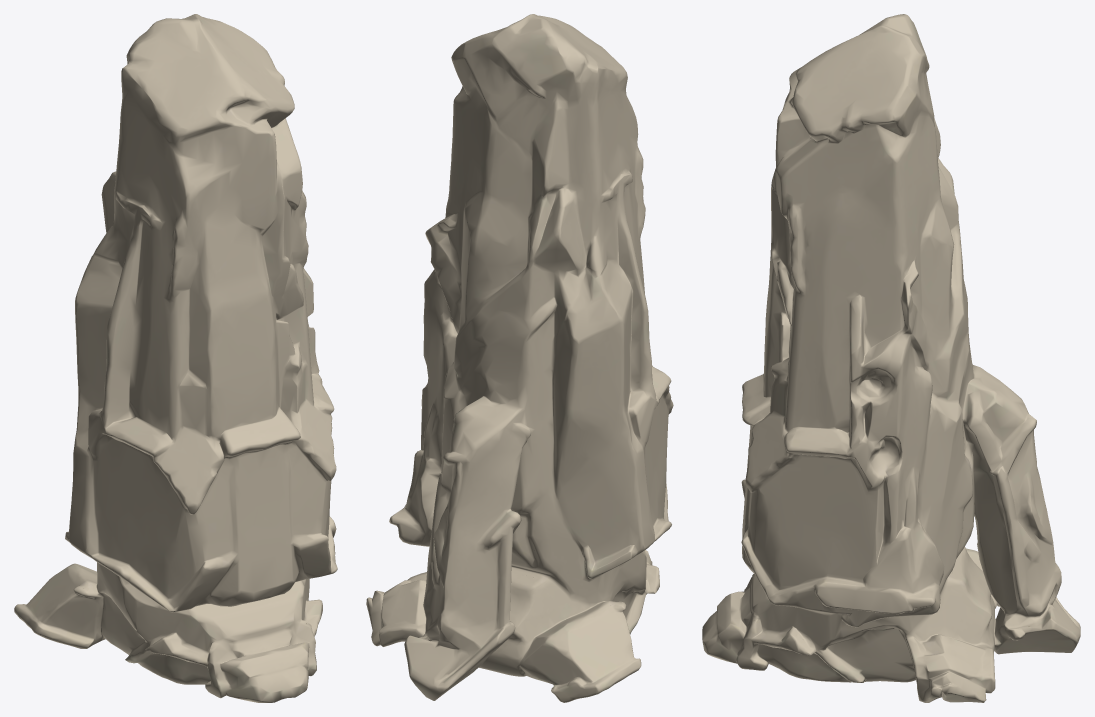
File: deco_pillar.fbx
3 views of the same model, side by side, from view 1: azimuth 30°, elevation 25°; view 2: azimuth 150°, elevation 25°; view 3: azimuth 270°, elevation 25° (orthographic).
Visible parts, largest first — view 1: tripo_node_2be4a233-d1d0-4b9a-82a3-b50717695ba1; view 2: tripo_node_2be4a233-d1d0-4b9a-82a3-b50717695ba1; view 3: tripo_node_2be4a233-d1d0-4b9a-82a3-b50717695ba1.
Part boxes in pixels (x1,y1,x2,y2): tripo_node_2be4a233-d1d0-4b9a-82a3-b50717695ba1: [14, 14, 337, 702]; tripo_node_2be4a233-d1d0-4b9a-82a3-b50717695ba1: [366, 14, 673, 702]; tripo_node_2be4a233-d1d0-4b9a-82a3-b50717695ba1: [702, 14, 1080, 702].
Size of the model in its own units: 44.12 by 97.97 by 53.6.
Materials: 1 (1 with a texture image).
